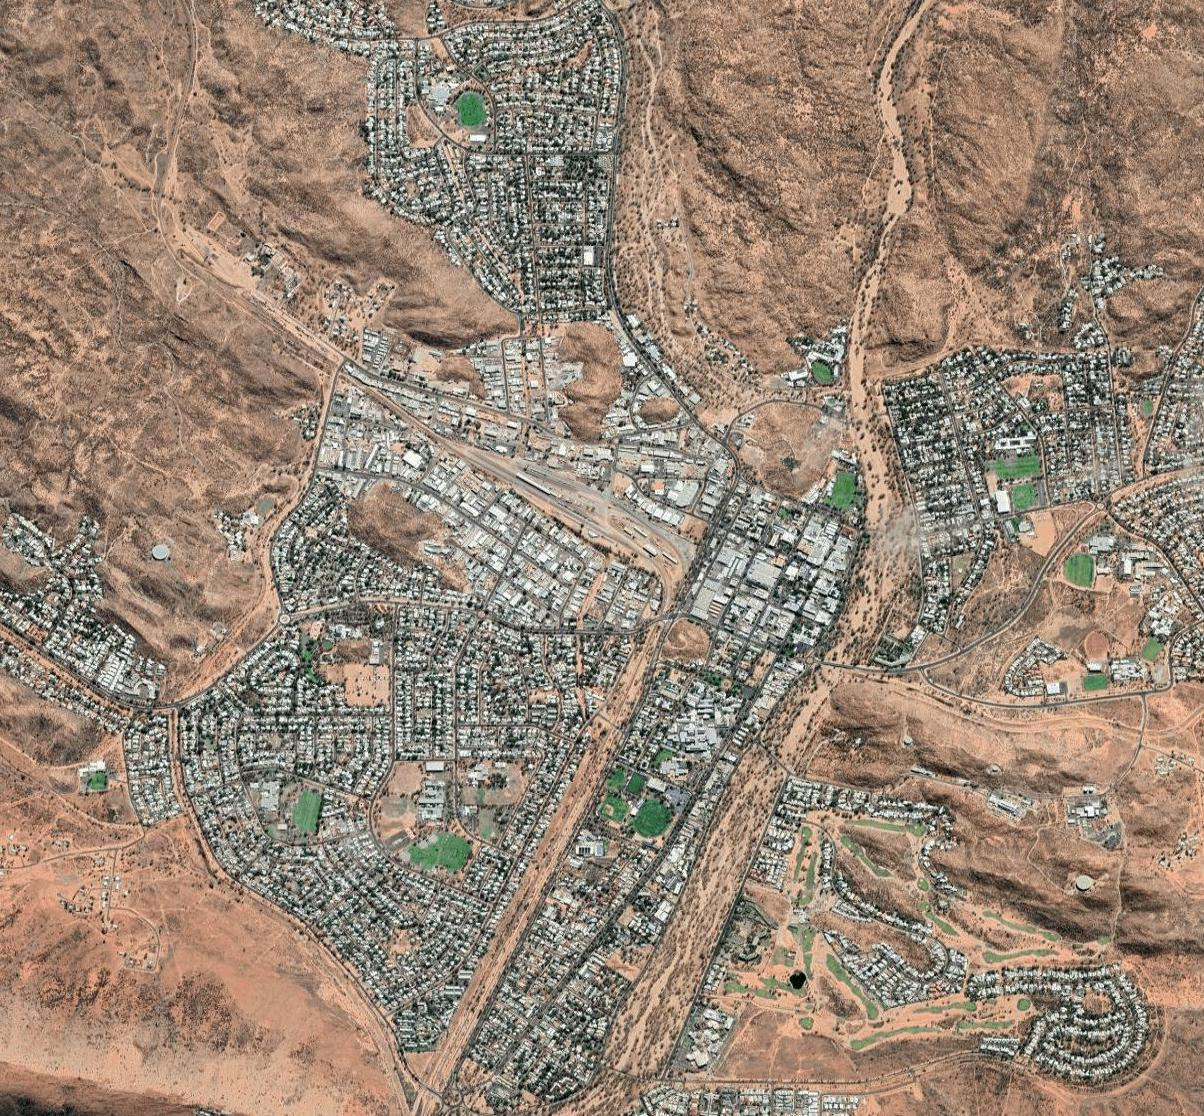train_station: (506, 457, 649, 561)
